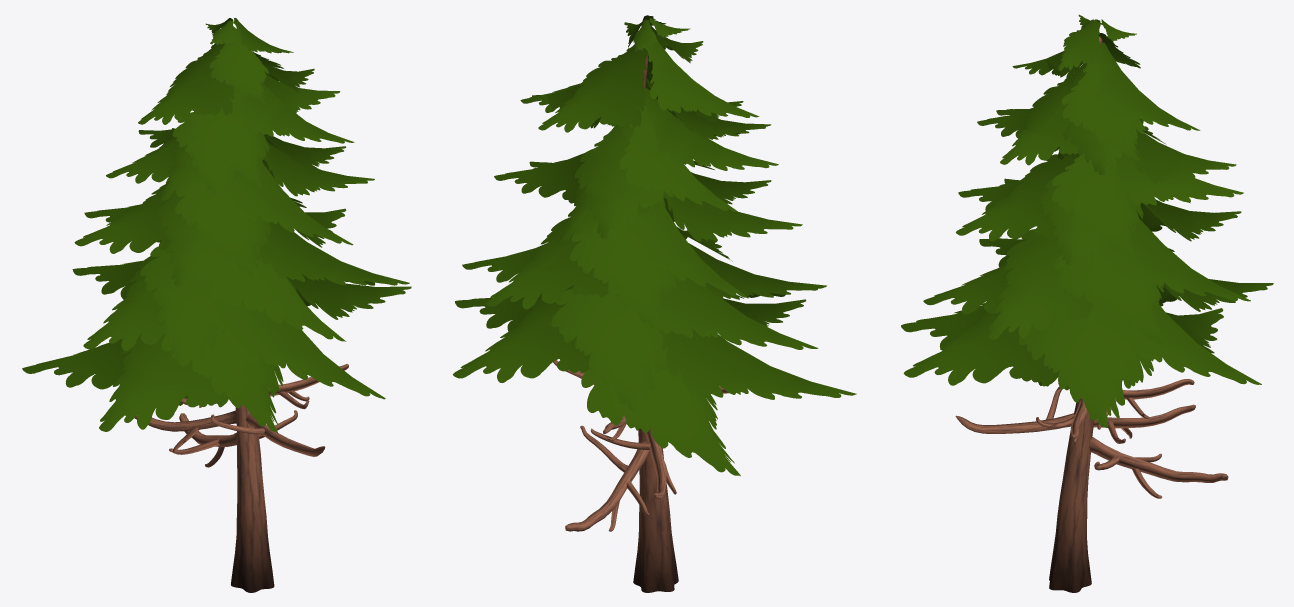
File: pine_1.glb
3 views of the same model, side by side, from view 1: azimuth 30°, elevation 25°; view 2: azimuth 150°, elevation 25°; view 3: azimuth 270°, elevation 25° (orthographic). The views are drawn at different scales.
Parts seen in each view (by area): view 1: Pine_1; view 2: Pine_1; view 3: Pine_1.
Boxes of the visible parts, x1=… form: Pine_1: x1=22, y1=18, x2=411, y2=592; Pine_1: x1=453, y1=15, x2=856, y2=592; Pine_1: x1=901, y1=14, x2=1273, y2=592.
Size of the model in its own units: 4.94 by 7.32 by 4.54.
2 materials, 2 textured.
